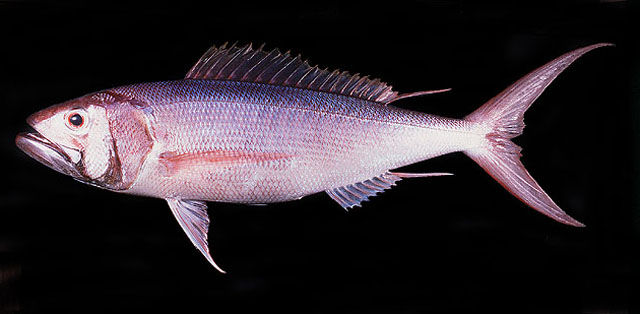fish: (16, 43, 603, 274)
